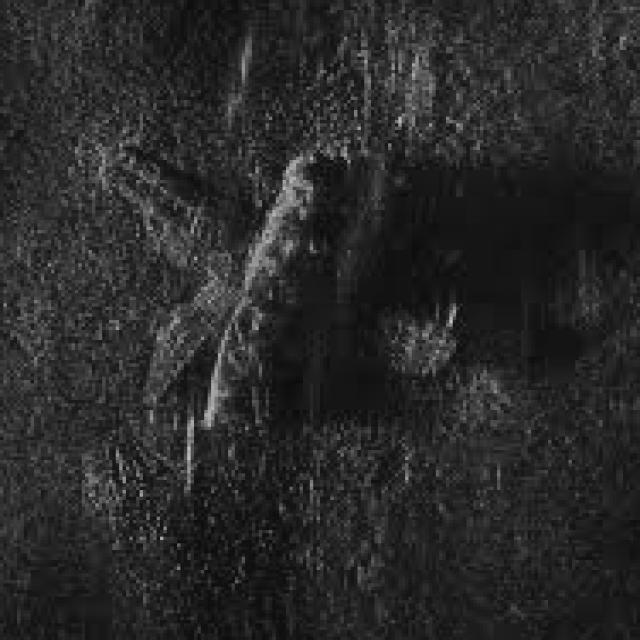plane: (64, 84, 510, 454)
